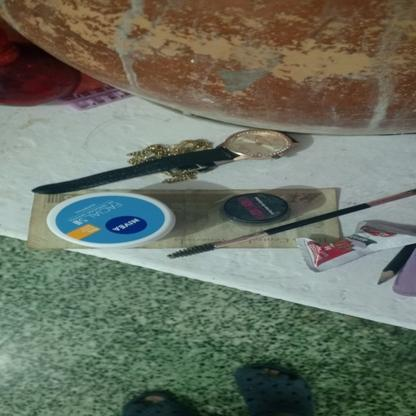five-back-vef: (26, 188, 340, 249)
